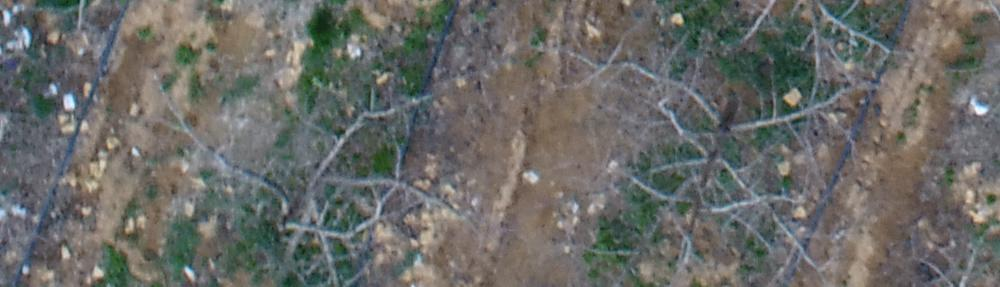apple: (520, 31, 876, 277), (96, 65, 473, 277)
